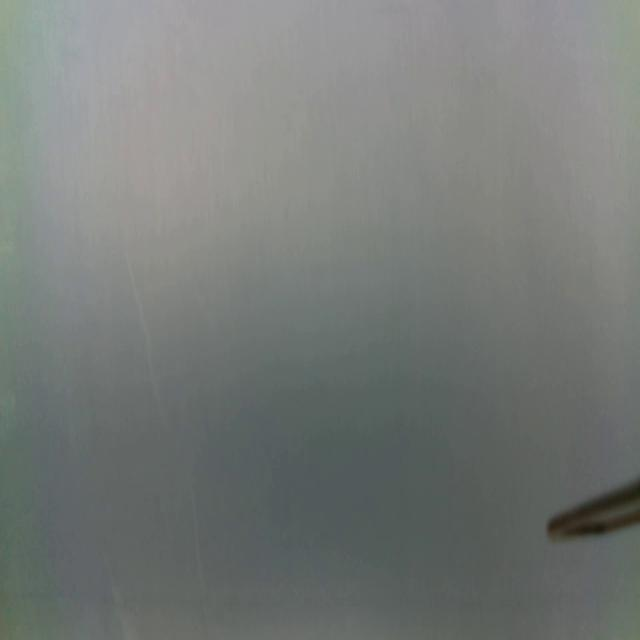crease: (124, 242, 169, 446)
